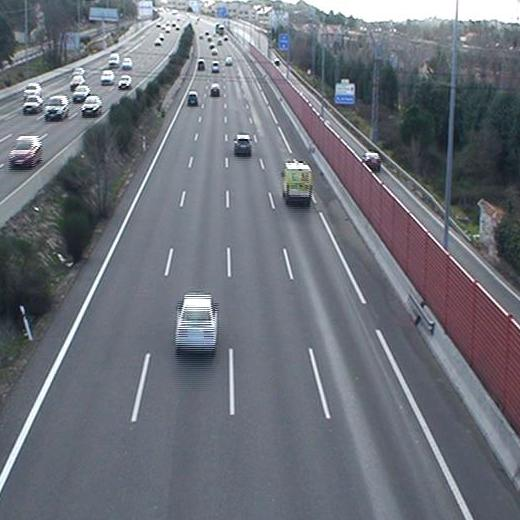car: (175, 295, 217, 351), (234, 134, 252, 154), (187, 92, 198, 107), (210, 83, 221, 95), (223, 56, 232, 66), (197, 59, 205, 70)
small-truck: (281, 163, 312, 206)
van: (210, 61, 221, 74)
